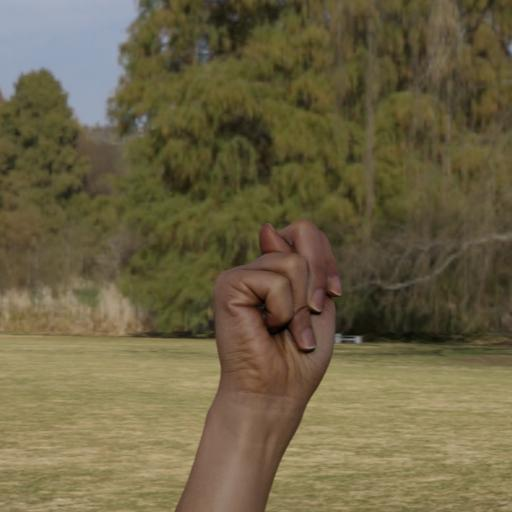N: (197, 208, 359, 422)
